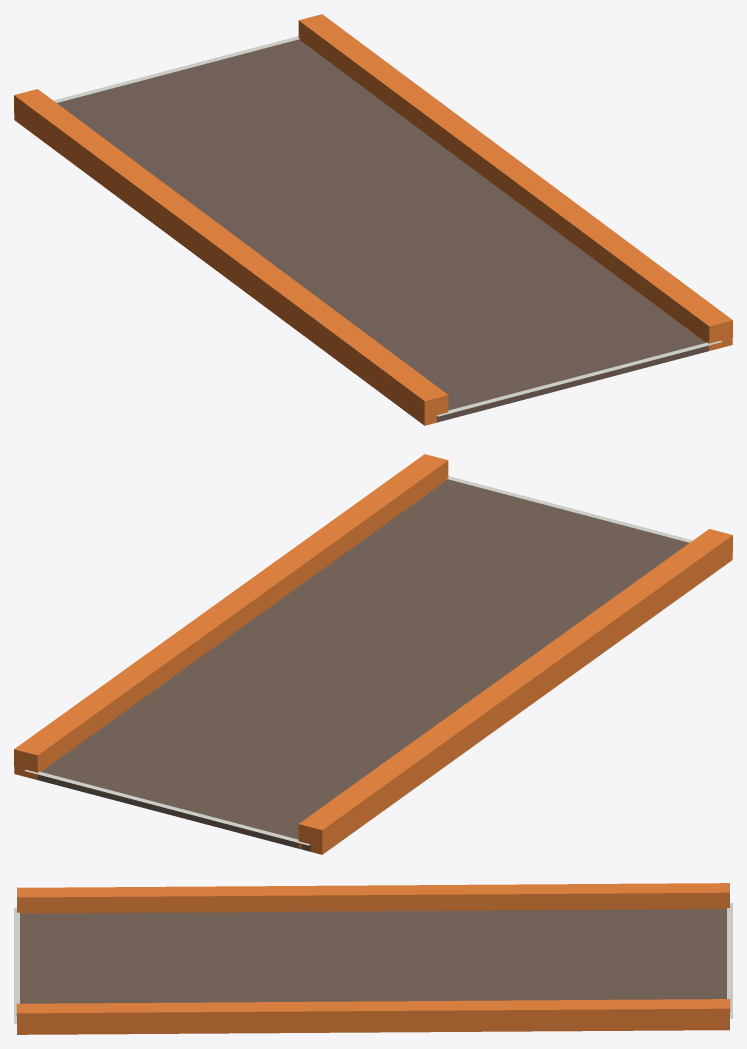
The model's file is SM_MP_Film_C_2_2.fbx.
3 renders of one model, top to bottom at view 1: azimuth 30°, elevation 25°; view 2: azimuth 150°, elevation 25°; view 3: azimuth 270°, elevation 25°, orthographic. The views are drawn at different scales.
Parts seen in each view (by area): view 1: SM_MP_Film_C_2_2; view 2: SM_MP_Film_C_2_2; view 3: SM_MP_Film_C_2_2.
Part boxes in pixels (left/top/right/bottom): SM_MP_Film_C_2_2: left=14, top=14, right=732, bottom=425; SM_MP_Film_C_2_2: left=14, top=454, right=732, bottom=854; SM_MP_Film_C_2_2: left=14, top=883, right=732, bottom=1034.
Size of what is drawn, in the model's own units: 260 by 605 by 29.06.
